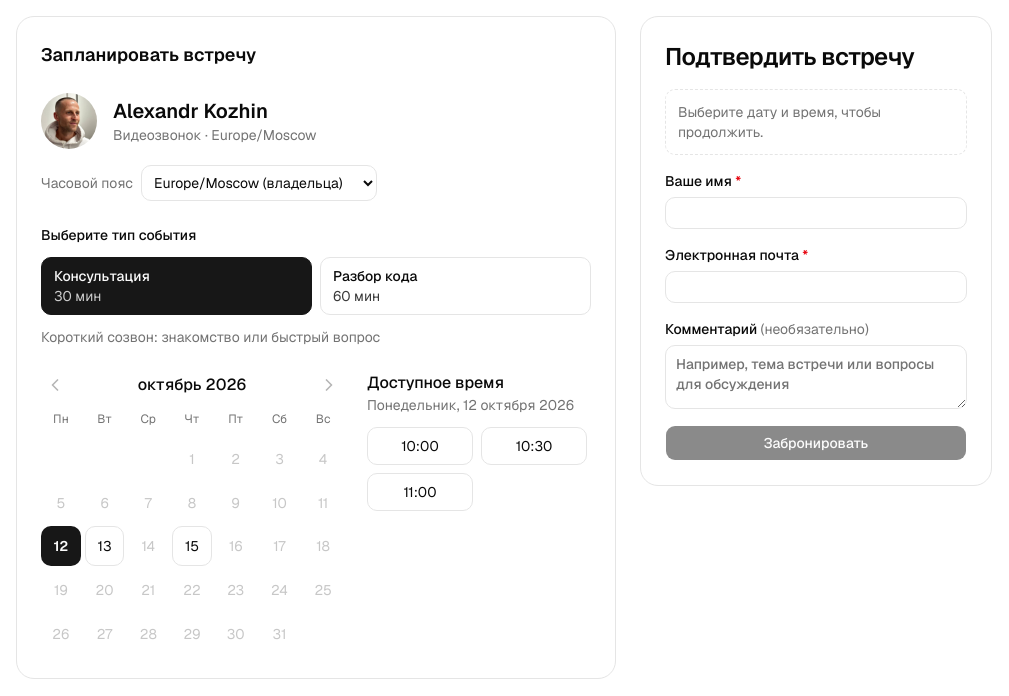
Test: главный экран записи › успешное бронирование: тело запроса, подтверждение, «Забронировать ещё» и перезагрузка слотов
Click the button "10:30".
click(534, 446)  # box [481,427,587,465]
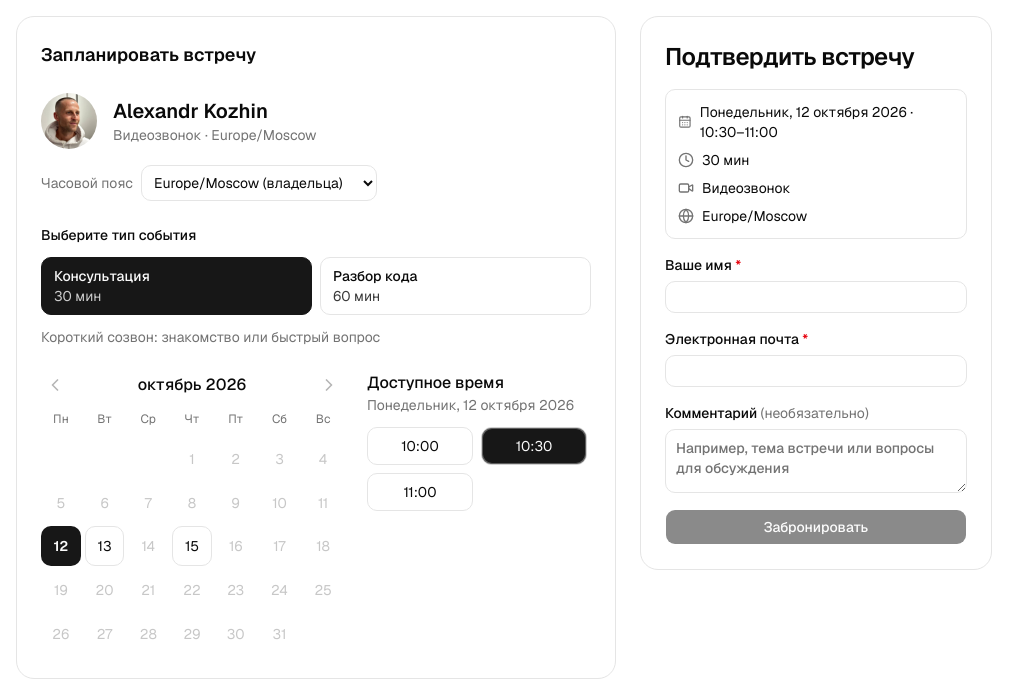
Type "Анна" into the field labelled "Ваше имя *".
click(816, 297); type("Анна")  # box [665,281,967,313]
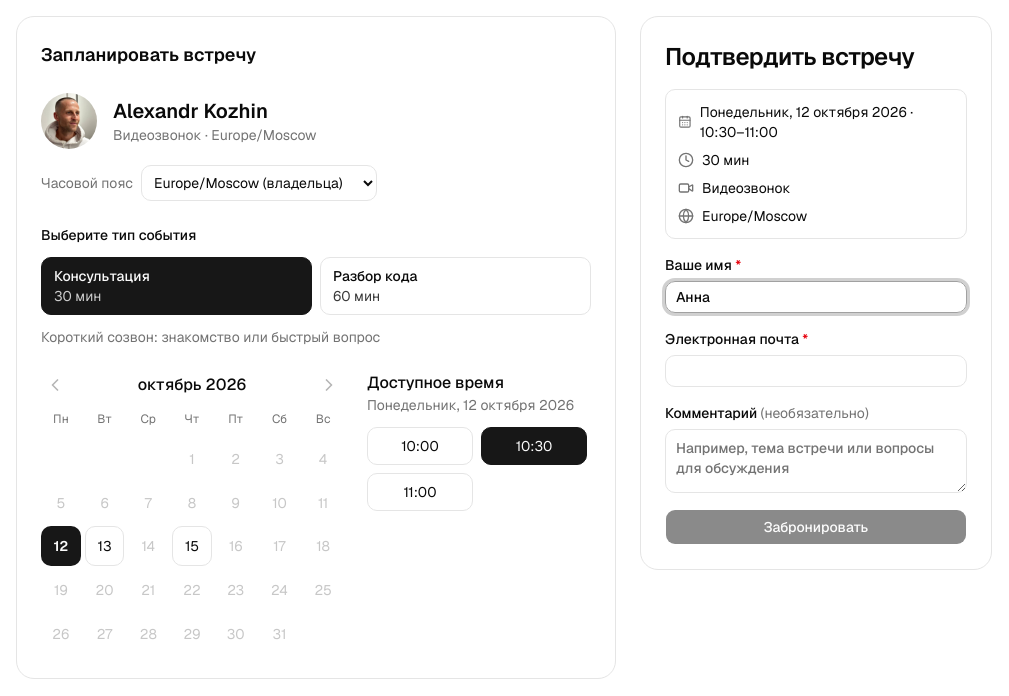
Type "anna@example.com" into the field labelled "Электронная почта *".
click(816, 371); type("anna@example.com")  # box [665,355,967,387]
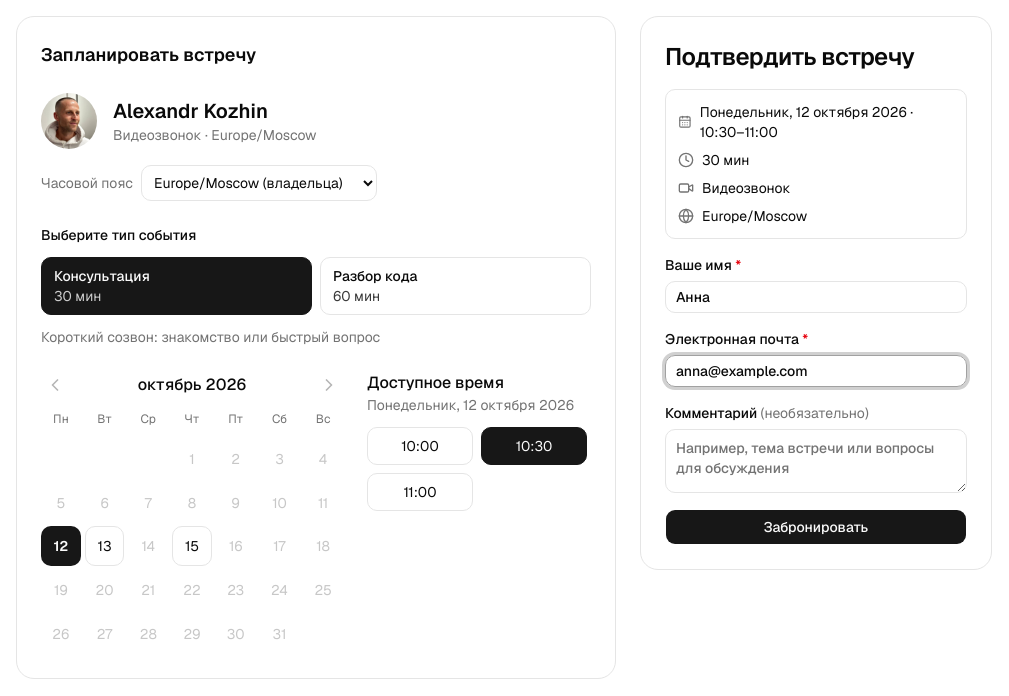
Type "Хочу обсудить проект" into the text box labelled "Комментарий (необязательно)".
click(816, 461); type("Хочу обсудить проект")  # box [665,429,967,493]
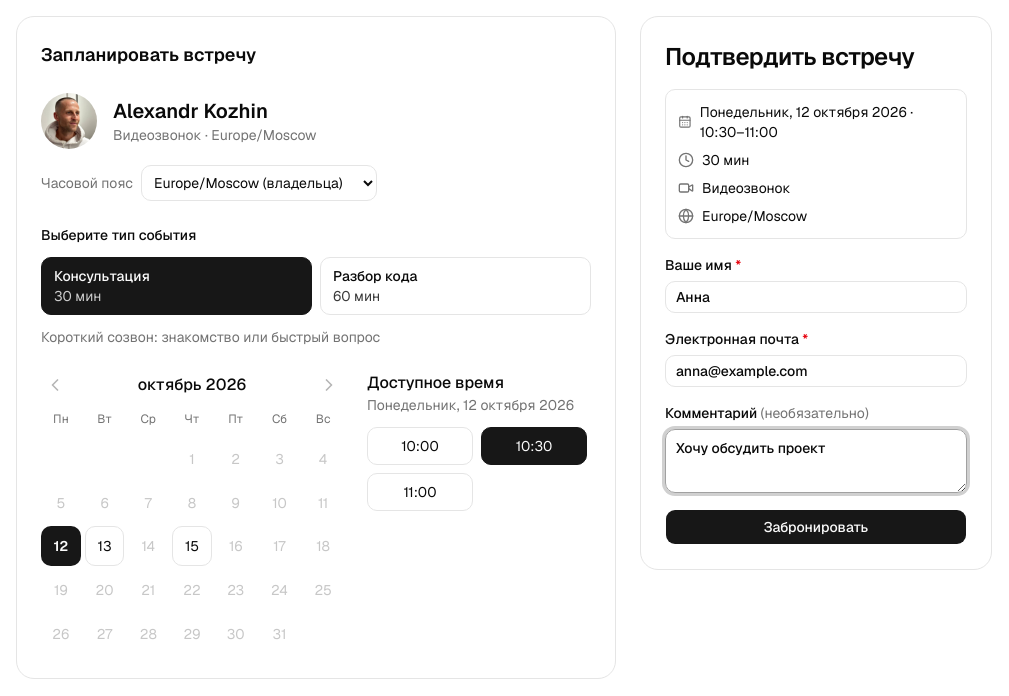
Click the button "Забронировать".
click(816, 527)  # box [665,509,967,545]
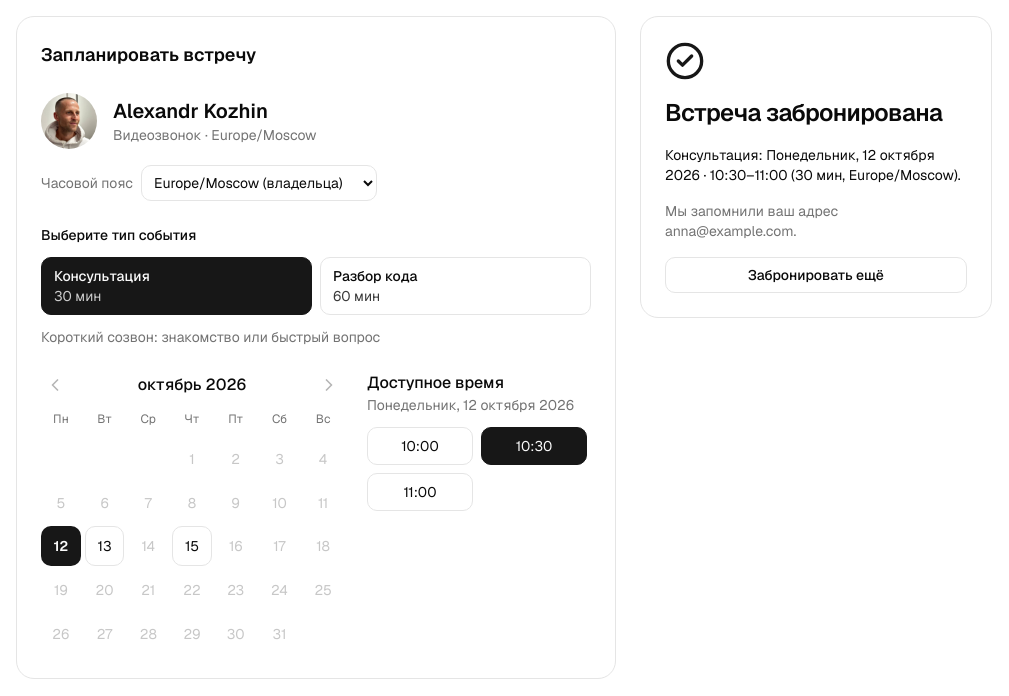
Now the heading "Встреча забронирована" is shown, box [665,97,967,129]
Now the text "Понедельник, 12 октября 2026 · 10:30–11:00" is shown, box [665,145,967,185]
Click the button "Забронировать ещё".
click(816, 275)  # box [665,257,967,293]
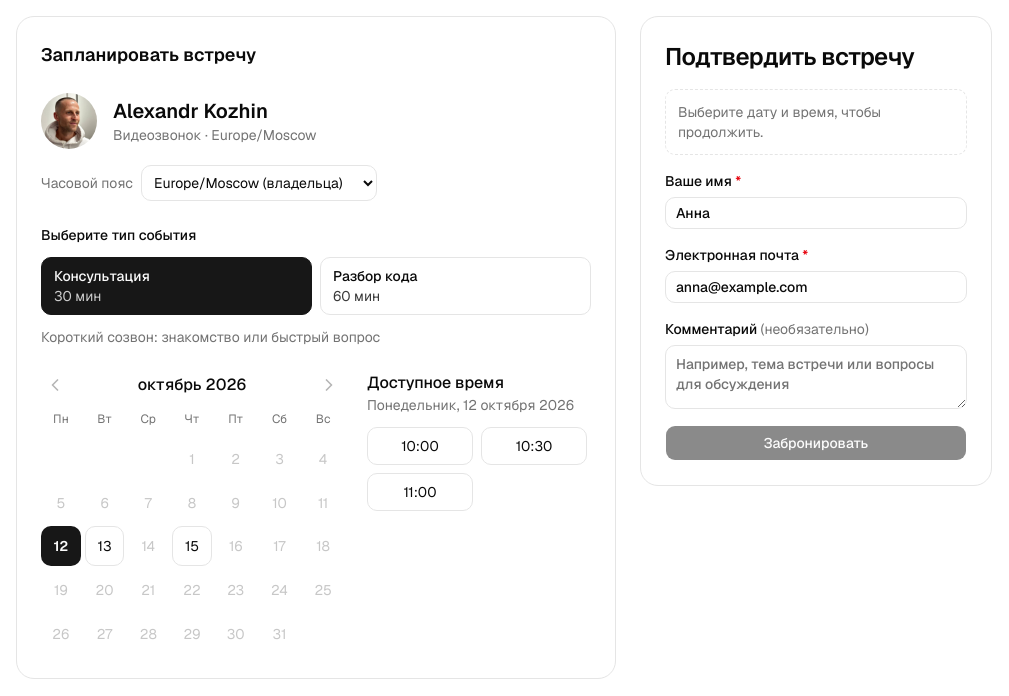
Now the heading "Подтвердить встречу" is shown, box [665,41,914,72]
Now the text box labelled "Комментарий (необязательно)" is empty, box [665,345,967,409]
Now the button "Забронировать" is disabled, box [665,425,967,461]
